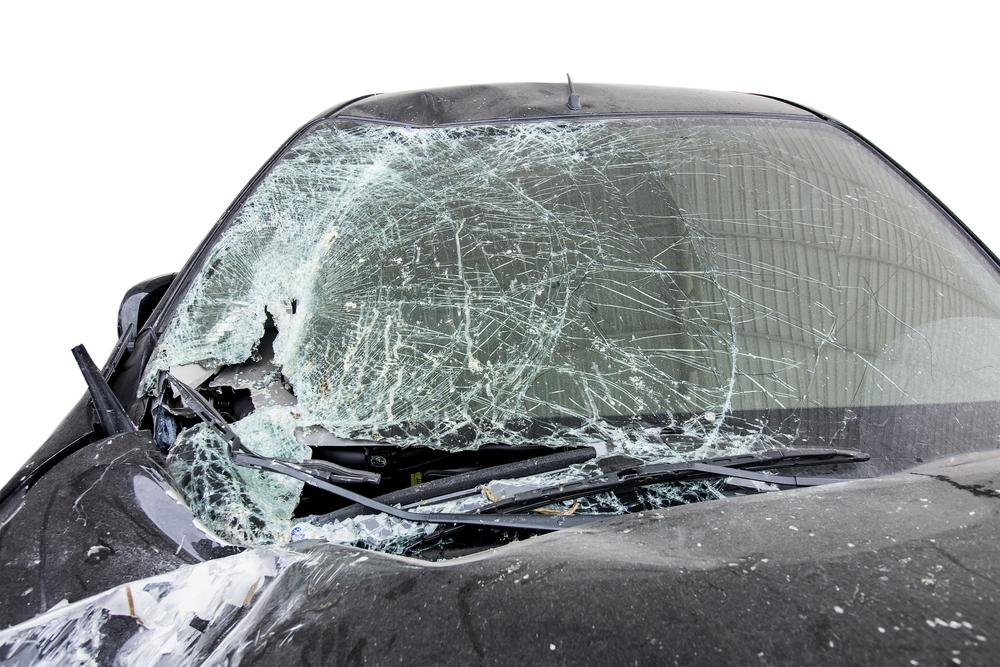dent: (67, 466, 229, 567), (337, 84, 577, 128)
glass shatter: (142, 114, 1000, 561)
scratch: (0, 538, 374, 667)
